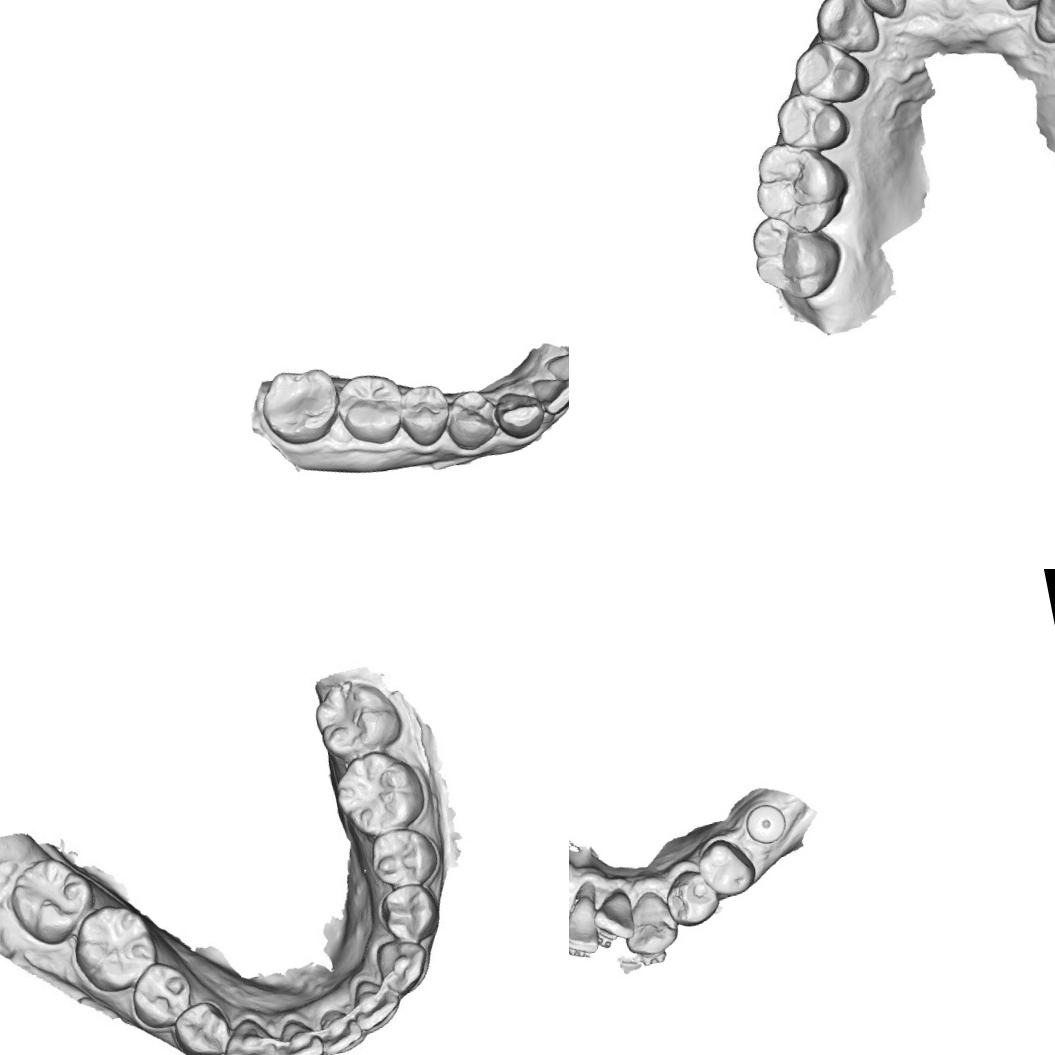canine: (614, 884, 684, 969), (808, 0, 884, 63), (370, 934, 434, 999), (489, 384, 549, 444), (218, 1013, 281, 1055), (1024, 0, 1055, 46)
implant: (741, 798, 788, 846)
incisor: (584, 882, 640, 946), (569, 877, 610, 963), (351, 972, 402, 1030), (315, 1000, 368, 1055), (269, 1010, 325, 1055), (529, 370, 569, 419), (852, 0, 916, 25), (541, 343, 569, 394)
molar: (746, 130, 857, 242), (744, 203, 848, 308), (3, 848, 100, 950), (68, 898, 162, 994), (330, 745, 426, 839), (253, 360, 348, 452), (307, 674, 407, 761), (329, 366, 410, 452)
premolar: (786, 34, 875, 112), (770, 84, 855, 161), (368, 820, 437, 890), (692, 832, 760, 903), (394, 378, 457, 450), (660, 862, 724, 932), (439, 384, 502, 455), (378, 881, 446, 945), (131, 960, 193, 1028), (171, 1001, 231, 1055)
